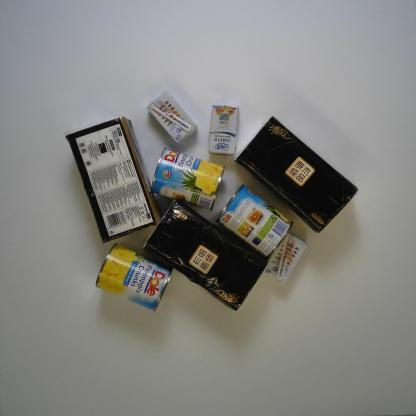Canned Food: (214, 184, 296, 256), (94, 243, 174, 312), (147, 148, 227, 212)
Milk: (145, 90, 201, 146), (262, 231, 310, 284), (206, 103, 240, 156)
Tissue: (234, 112, 360, 234), (141, 198, 270, 313), (63, 115, 164, 249)
